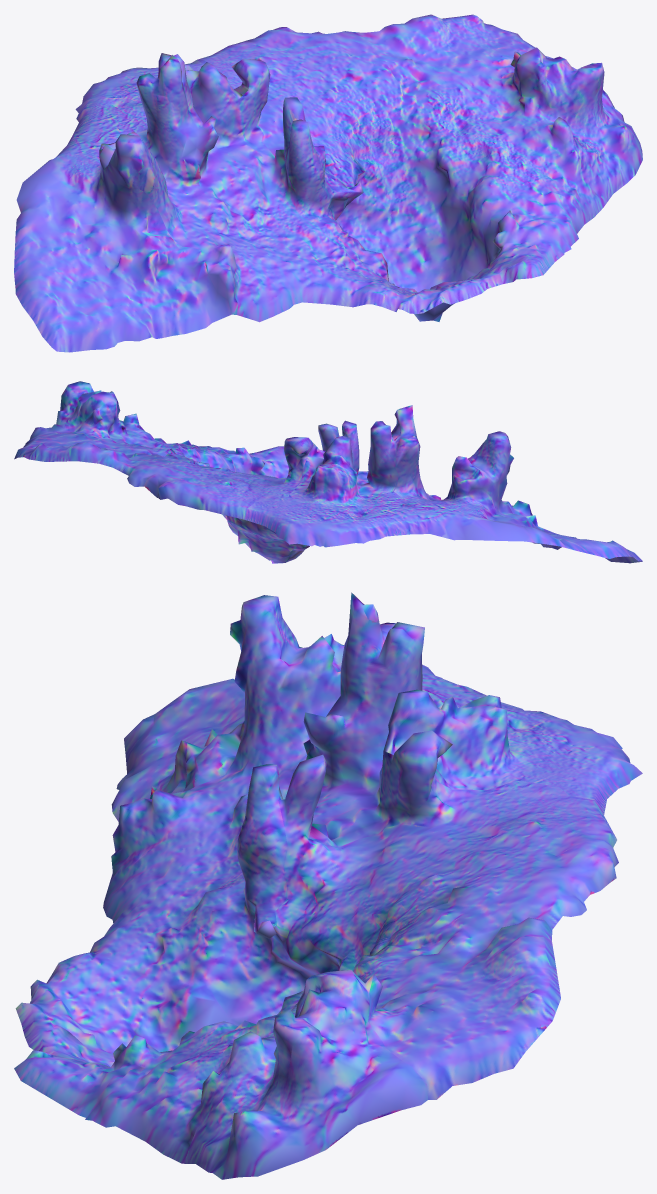
The model's file is TerrainDeco008.fbx.
3 views of the same model, one above another, from view 1: azimuth 30°, elevation 25°; view 2: azimuth 150°, elevation 25°; view 3: azimuth 270°, elevation 25° (orthographic). The views are drawn at different scales.
Parts seen in each view (by area): view 1: TD08_LOD0; view 2: TD08_LOD0; view 3: TD08_LOD0.
Part boxes in pixels (left/top/right/bottom): TD08_LOD0: left=14, top=14, right=642, bottom=352; TD08_LOD0: left=14, top=381, right=642, bottom=563; TD08_LOD0: left=14, top=592, right=642, bottom=1179.
Size of the model in its own units: 664 by 273 by 378.
